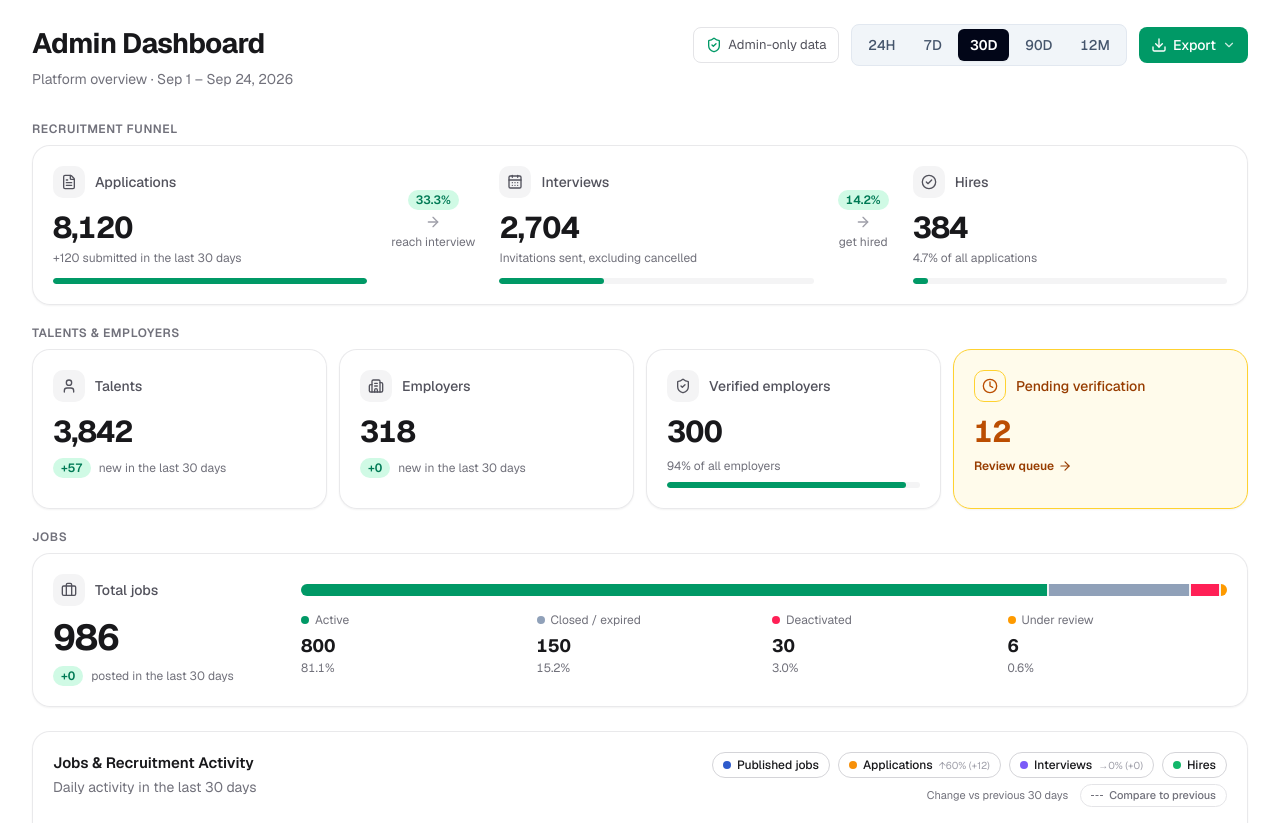
Test: AdminDashboardView › asks for the new range when the admin picks a different preset
What coordinates should you click on to do the following:
click the radio button labelled "7D"
I would click on:
 (933, 45)
Its box is [912,29,954,61].
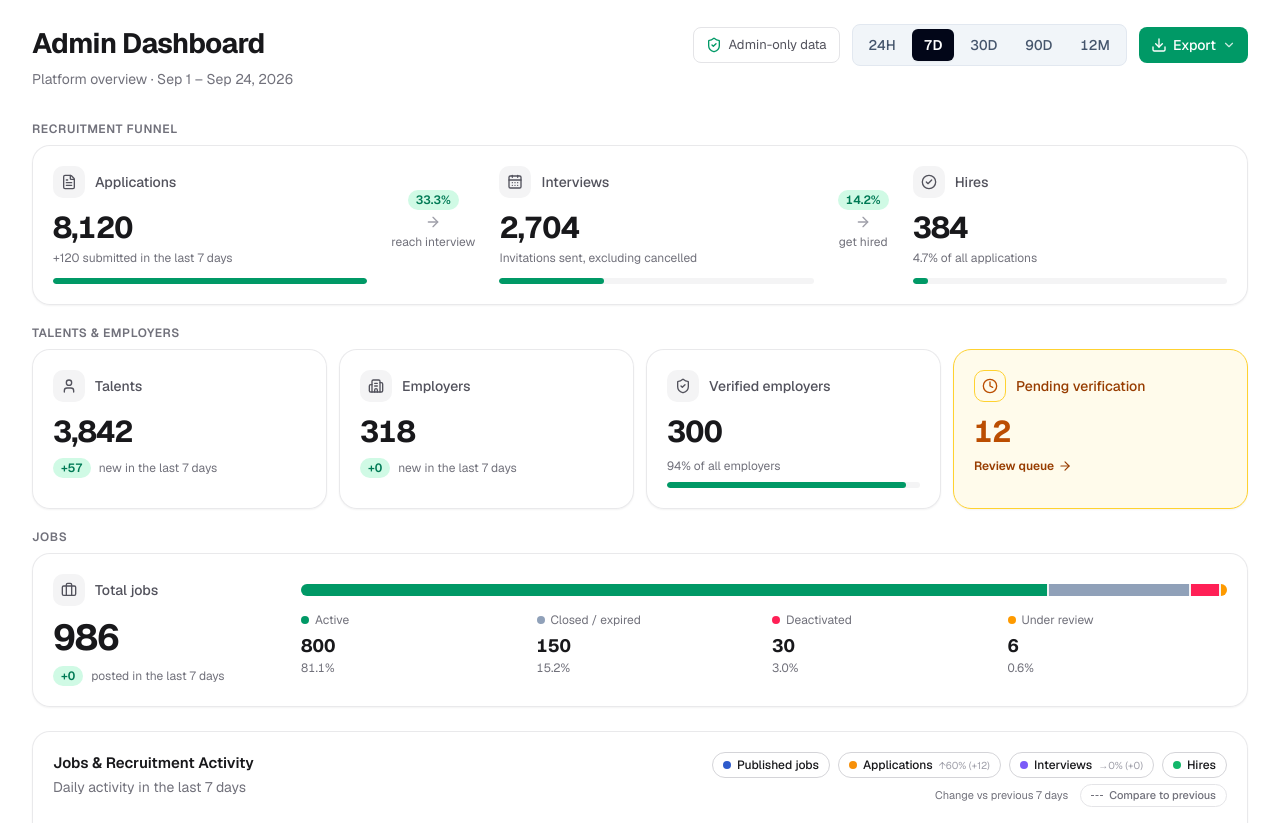
expect the text "+120 submitted in the last 7 days" is shown: met, box [53,250,233,266]
